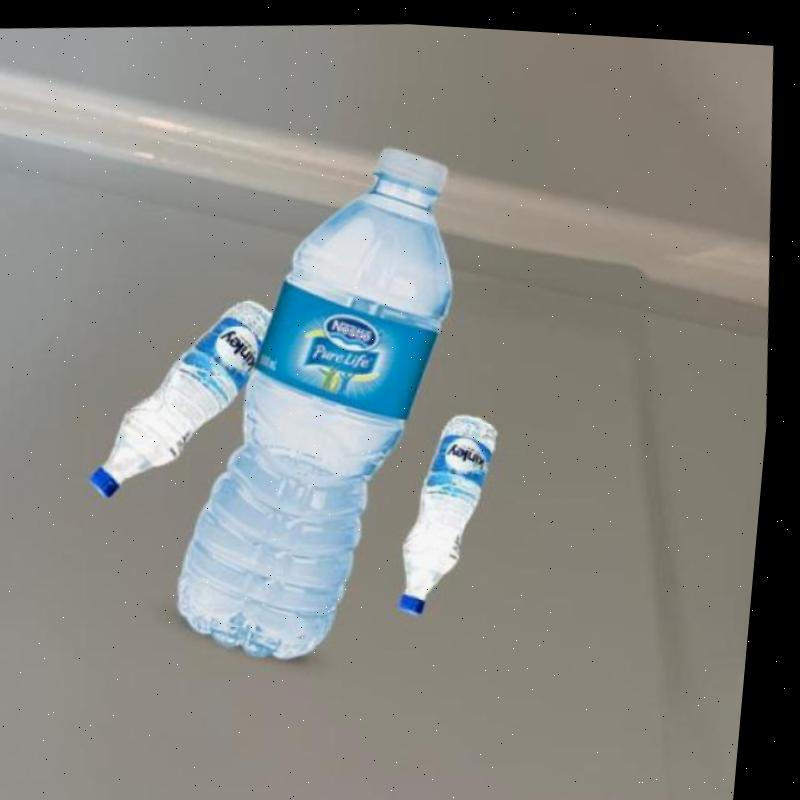botella: (150, 124, 492, 668), (86, 285, 289, 500), (393, 400, 519, 611)
